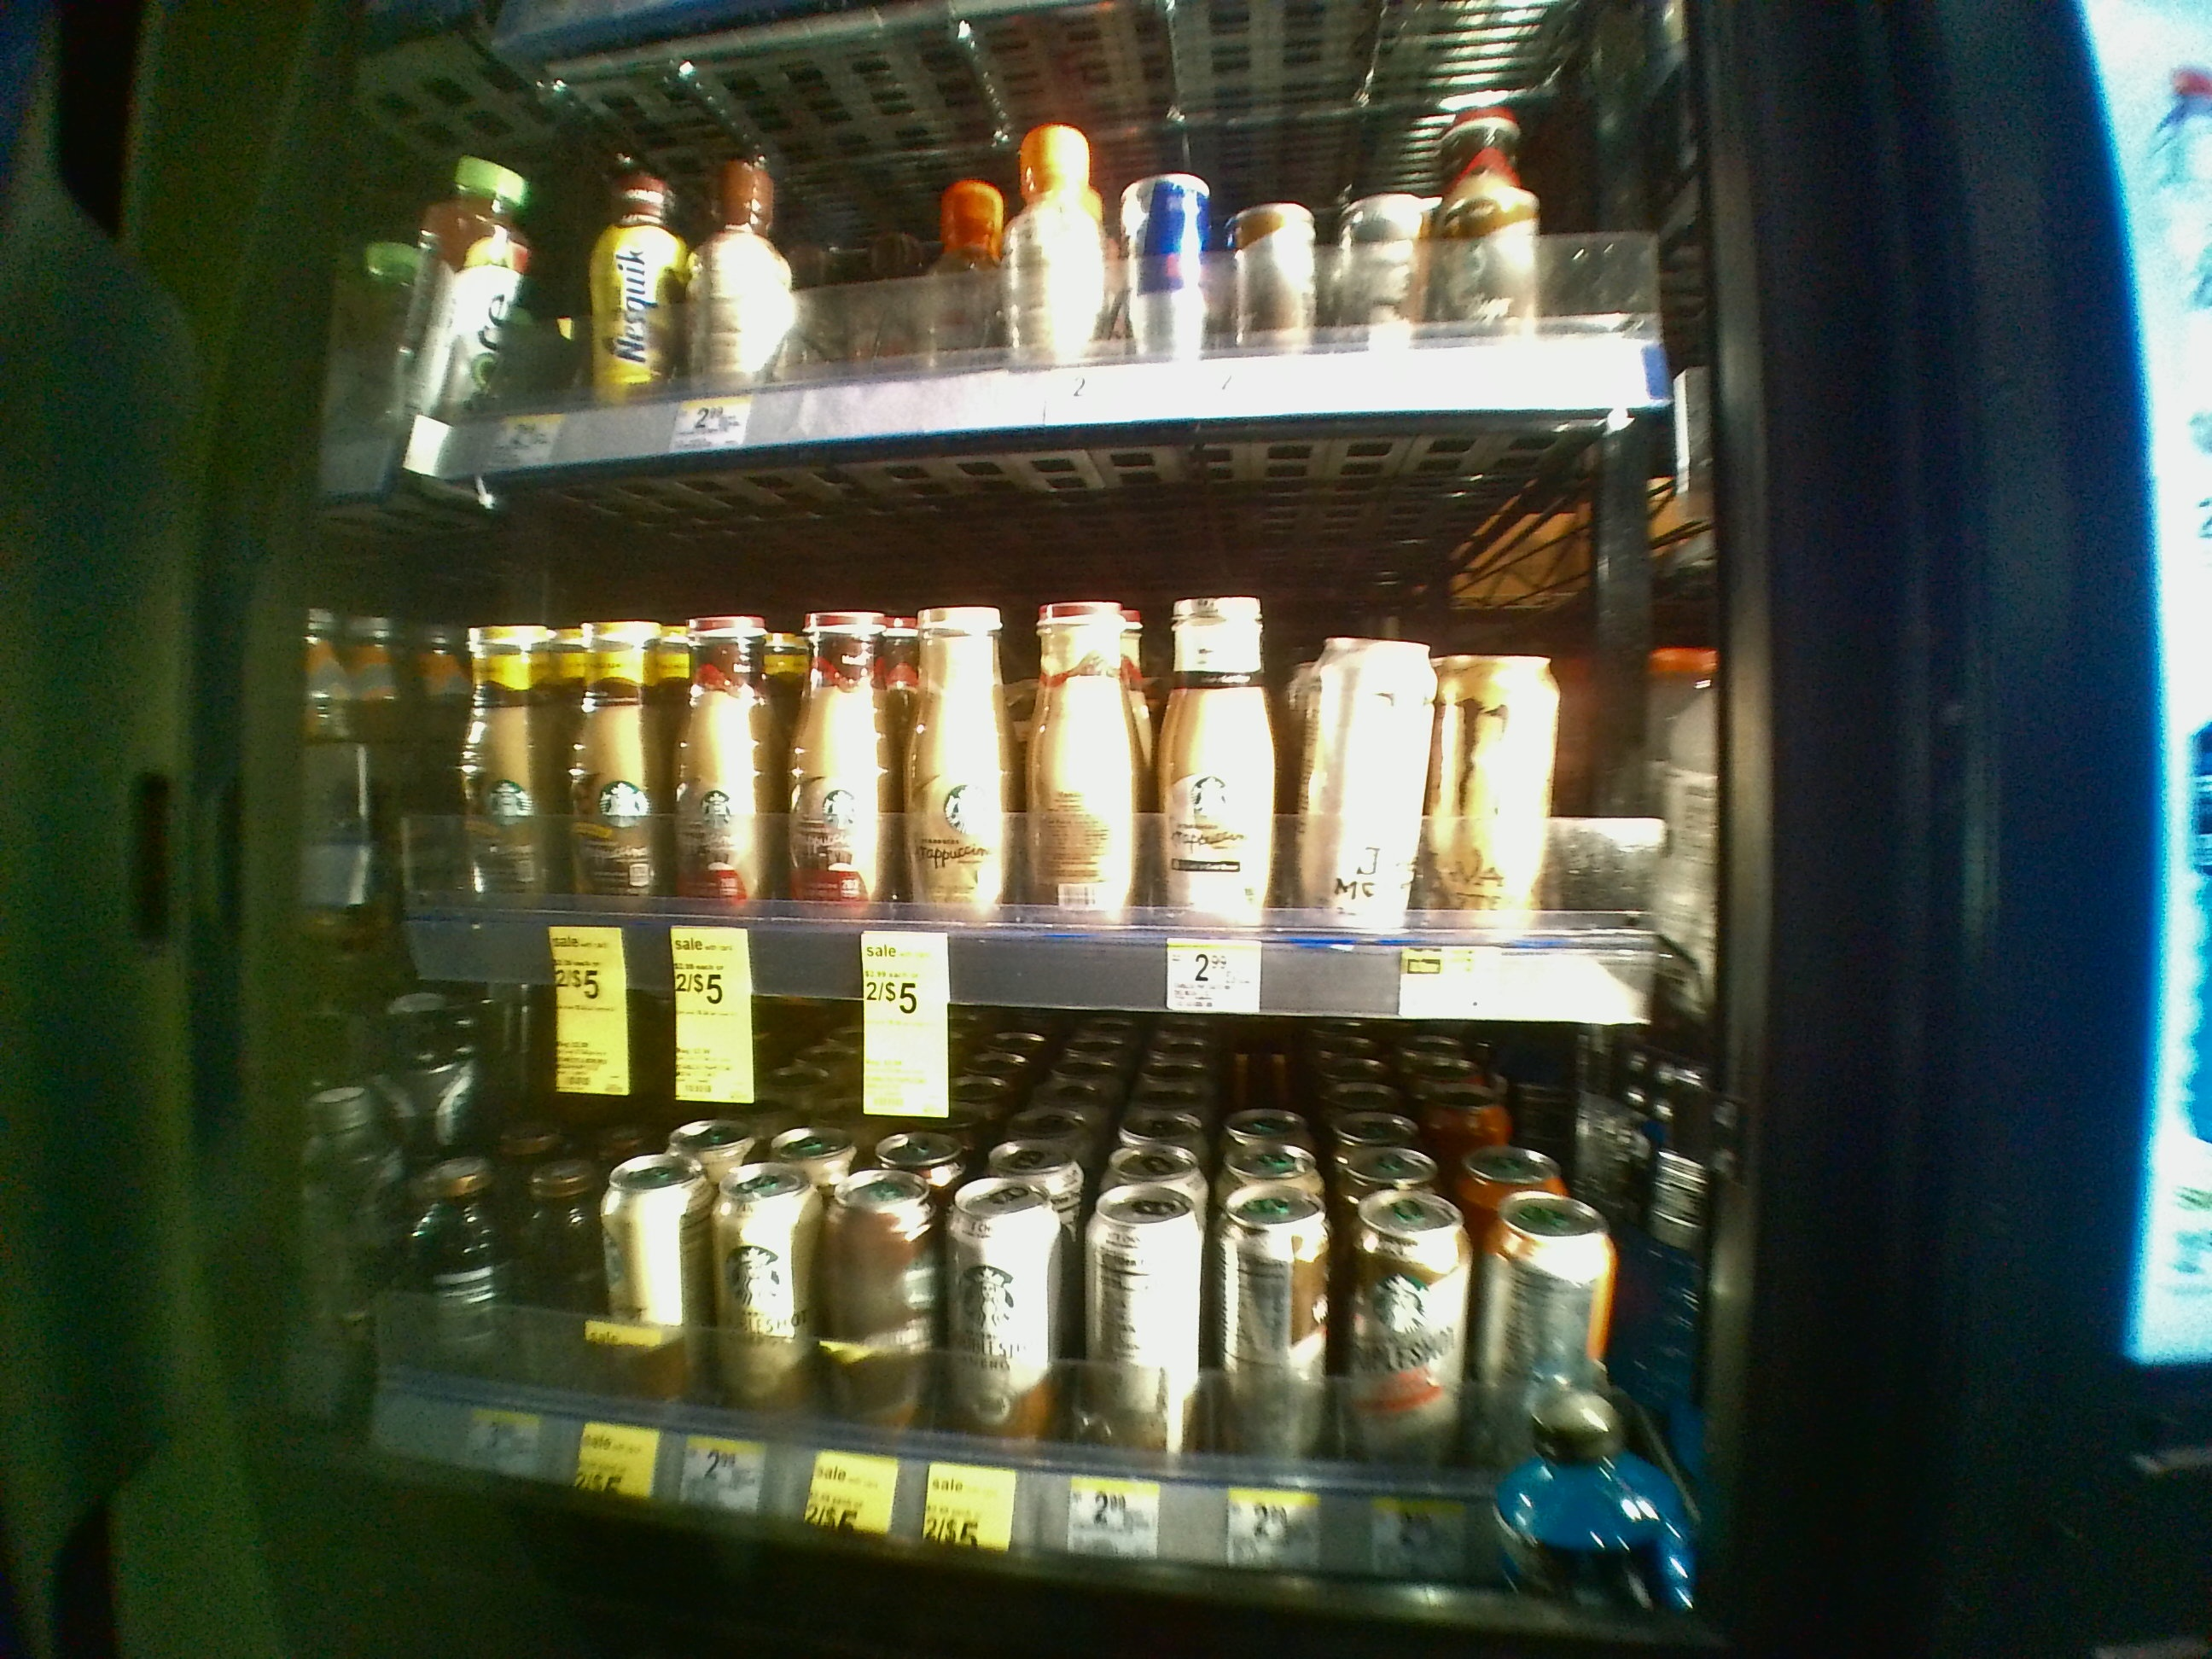shelf: (324, 976, 1735, 1603), (359, 430, 1742, 1016)
